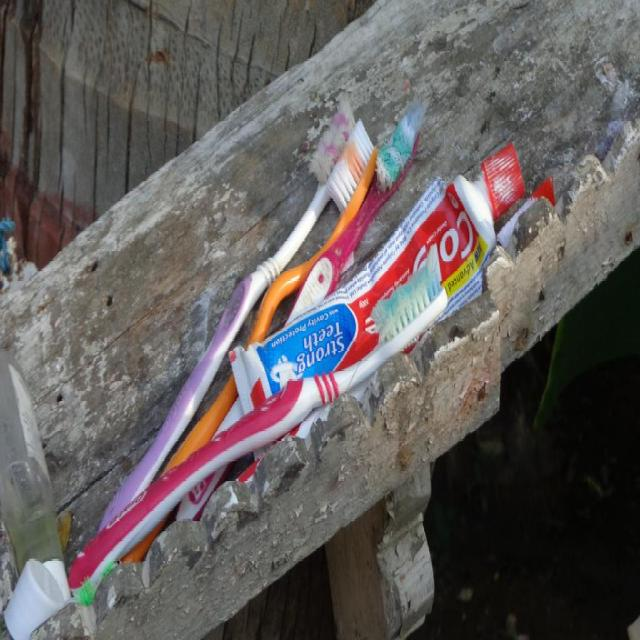Toothpaste: (227, 139, 528, 459)
